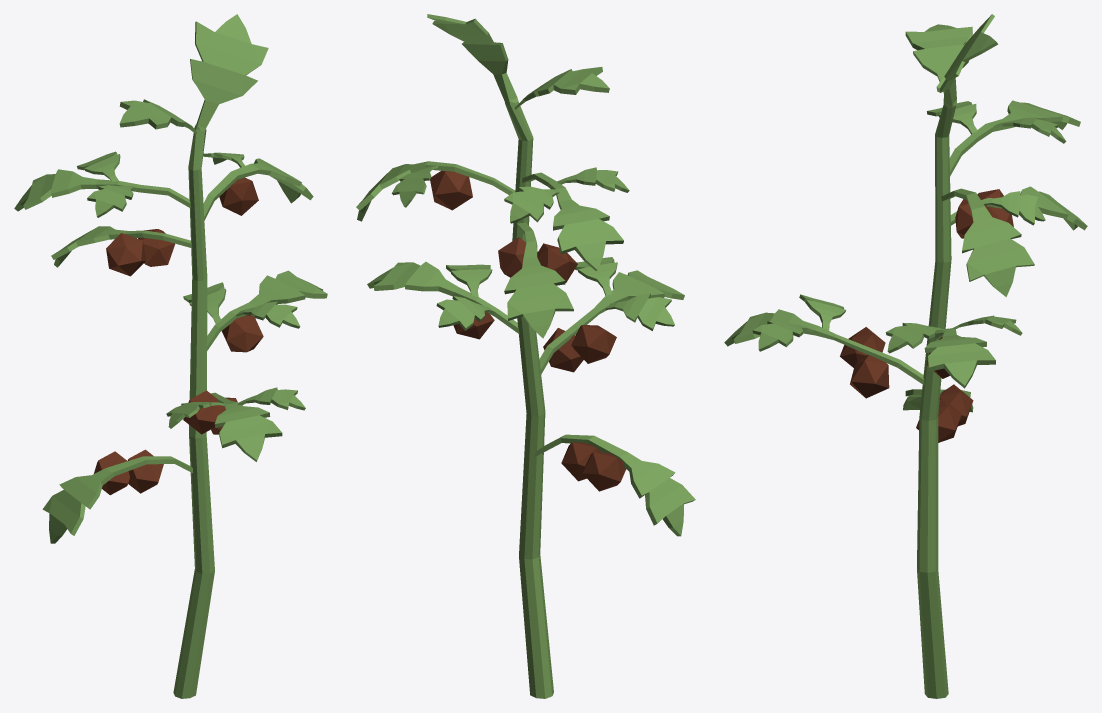
Rendered from Tomato_4.glb.
3 renders of one model, left to right at view 1: azimuth 30°, elevation 25°; view 2: azimuth 150°, elevation 25°; view 3: azimuth 270°, elevation 25°, orthographic. The views are drawn at different scales.
Visible parts, largest first — view 1: Tomato_4; view 2: Tomato_4; view 3: Tomato_4.
Part boxes in pixels (x1,y1,x2,y2): Tomato_4: (14,14,327,698); Tomato_4: (356,14,695,698); Tomato_4: (724,14,1087,698).
Size of the model in its own units: 0.7932 by 1.72 by 0.81.
